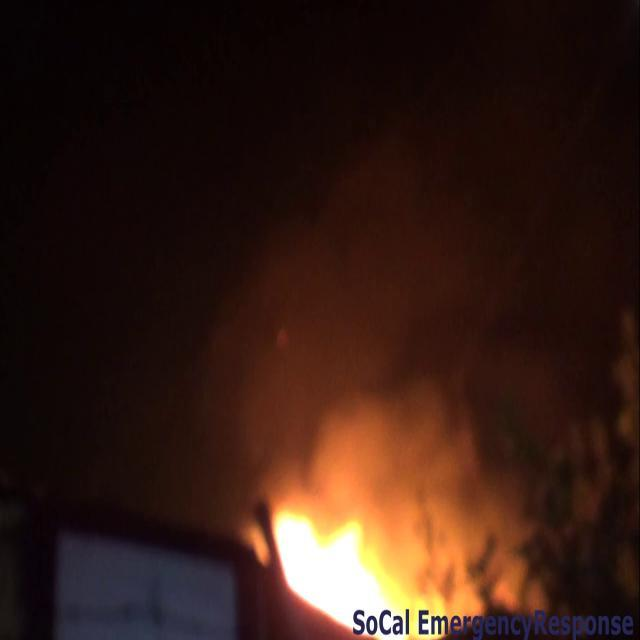Fire: (260, 492, 433, 634)
Smoke: (277, 139, 579, 606)
